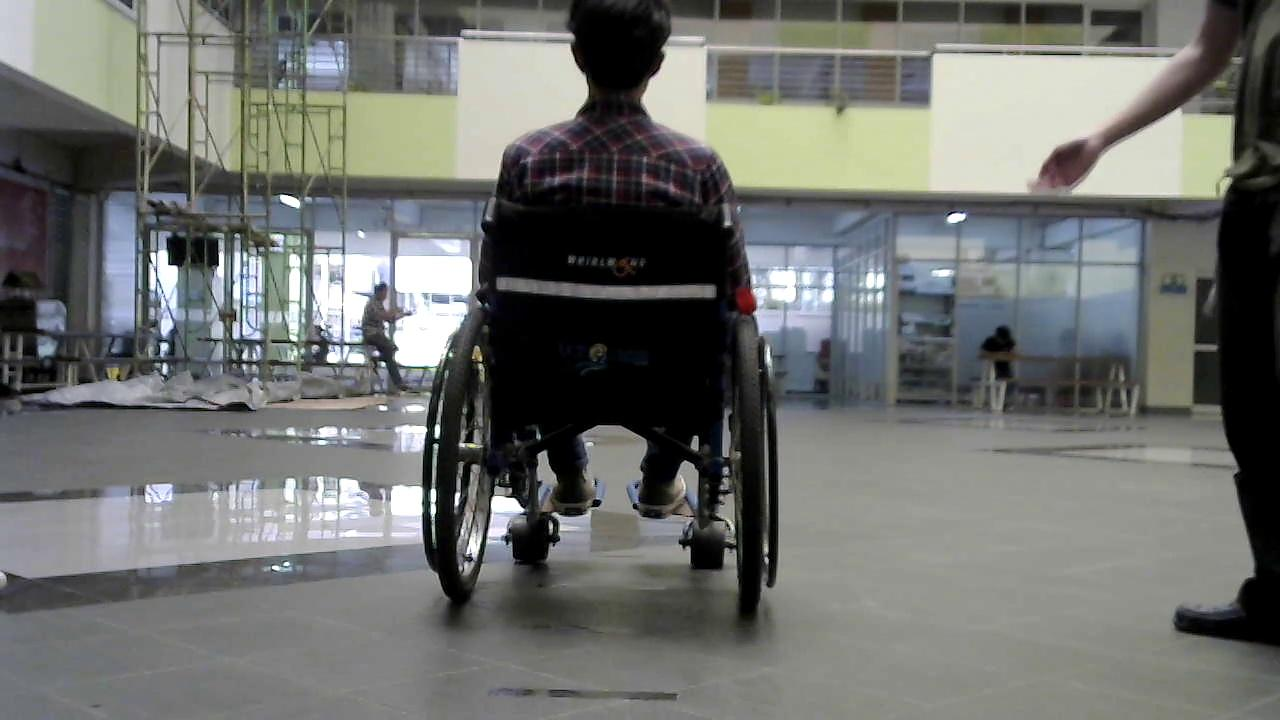person: (1027, 4, 1280, 645), (475, 2, 774, 532), (359, 277, 402, 396), (979, 323, 1018, 412)
wheelchair: (397, 190, 794, 644)
